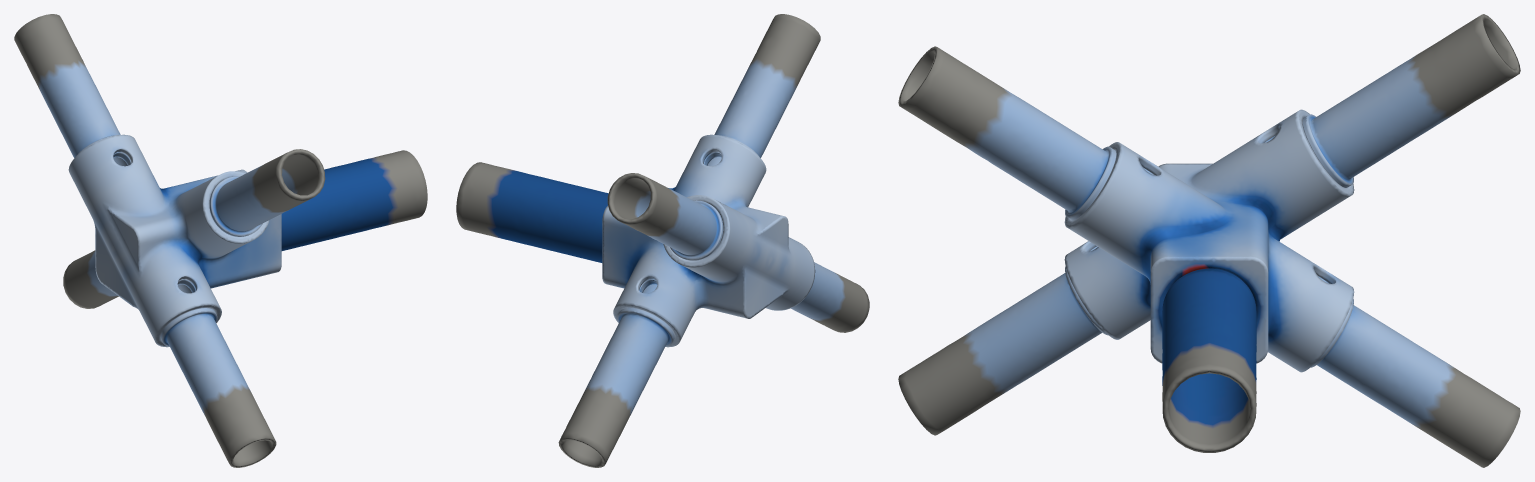
The model's file is hub_F2.glb.
The picture shows the model from 3 angles, left to right: view 1: azimuth 30°, elevation 25°; view 2: azimuth 150°, elevation 25°; view 3: azimuth 270°, elevation 25°; orthographic projection. The views are drawn at different scales.
Visible parts, largest first — view 1: hub (printed PETG), arm tube A (UR, LL), bridge tube, arm tube B (LR, UL); view 2: hub (printed PETG), arm tube B (LR, UL), bridge tube, arm tube A (UR, LL); view 3: hub (printed PETG), arm tube B (LR, UL), arm tube A (UR, LL), bridge tube.
Boxes of the visible parts, x1,y1,x2,y2 form: hub (printed PETG): (68,134,281,347); arm tube A (UR, LL): (14,14,276,467); bridge tube: (281,150,427,250); arm tube B (LR, UL): (63,149,325,308); hub (printed PETG): (602,134,815,347); arm tube B (LR, UL): (558,14,820,467); bridge tube: (456,162,608,262); arm tube A (UR, LL): (607,173,869,332); hub (printed PETG): (1064,109,1354,372); arm tube B (LR, UL): (898,46,1520,467); arm tube A (UR, LL): (898,14,1520,435); bridge tube: (1162,268,1256,452).
Bounding box in the file's own units: 0.079 × 0.0777 × 0.1058.
